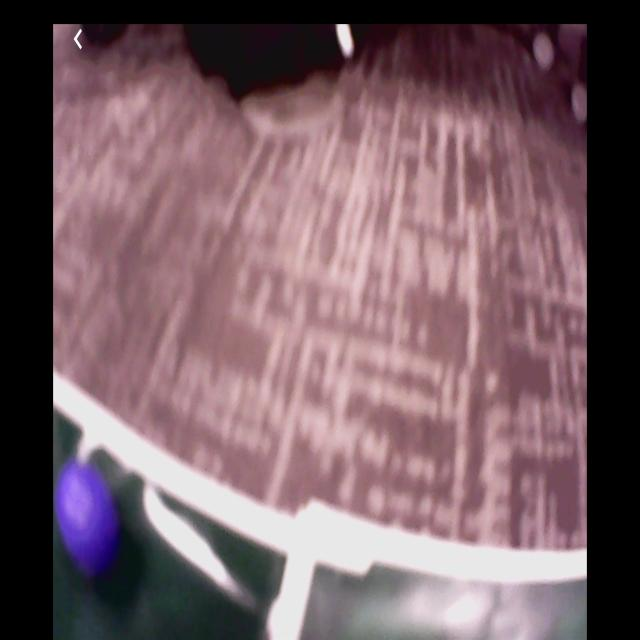ball: (57, 461, 117, 573)
